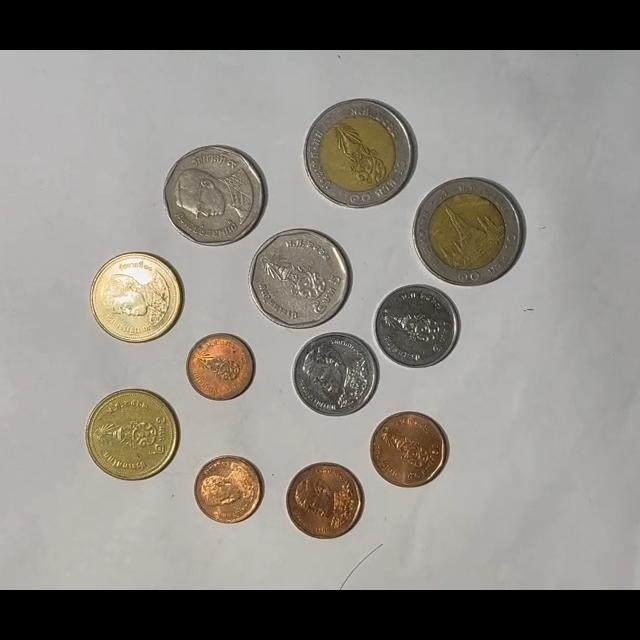1-baht: (373, 284, 460, 370), (291, 332, 379, 417)
10-baht: (303, 98, 417, 210), (413, 178, 525, 287)
2-baht: (90, 252, 183, 345), (86, 389, 180, 481)
25-satang: (193, 455, 265, 526), (186, 333, 256, 401)
5-baht: (163, 145, 267, 247), (250, 228, 352, 330)
50-satang: (285, 462, 364, 540), (370, 411, 448, 488)
